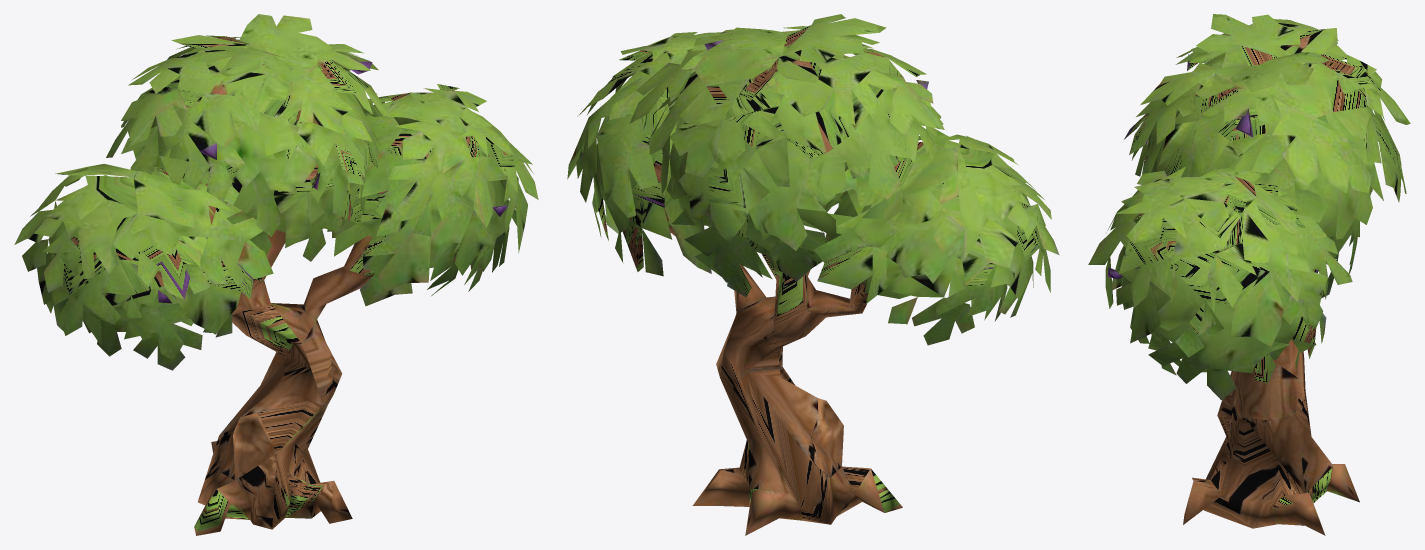
The model's file is fig.glb.
The picture shows the model from 3 angles, left to right: view 1: azimuth 30°, elevation 25°; view 2: azimuth 150°, elevation 25°; view 3: azimuth 270°, elevation 25°; orthographic projection. The views are drawn at different scales.
Parts seen in each view (by area): view 1: geometry_0; view 2: geometry_0; view 3: geometry_0.
Part boxes in pixels (box(x1,y1,x2,y2)): geometry_0: box(14, 14, 538, 535); geometry_0: box(567, 14, 1059, 535); geometry_0: box(1088, 14, 1410, 535).
Bounding box in the file's own units: 0.9565 × 0.9004 × 0.5747.
Materials: 1 (1 with a texture image).
